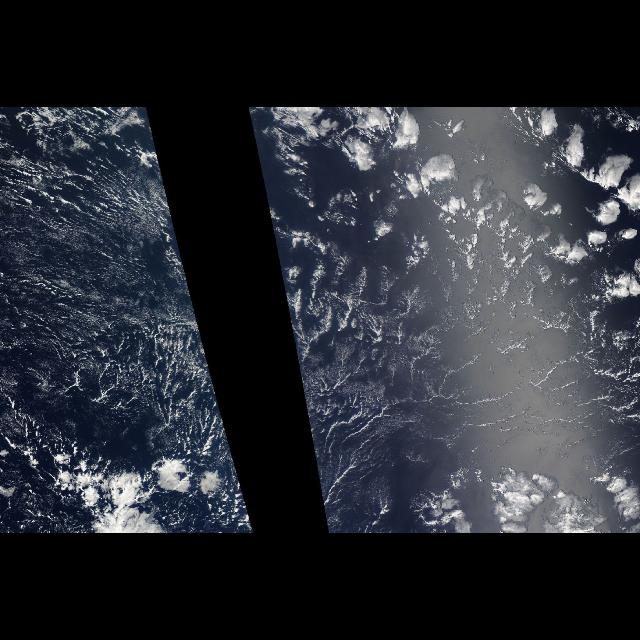Flower: (272, 108, 640, 306), (402, 450, 632, 532)
Gravel: (6, 113, 236, 461), (249, 112, 299, 368)
Sugar: (8, 168, 188, 426)
